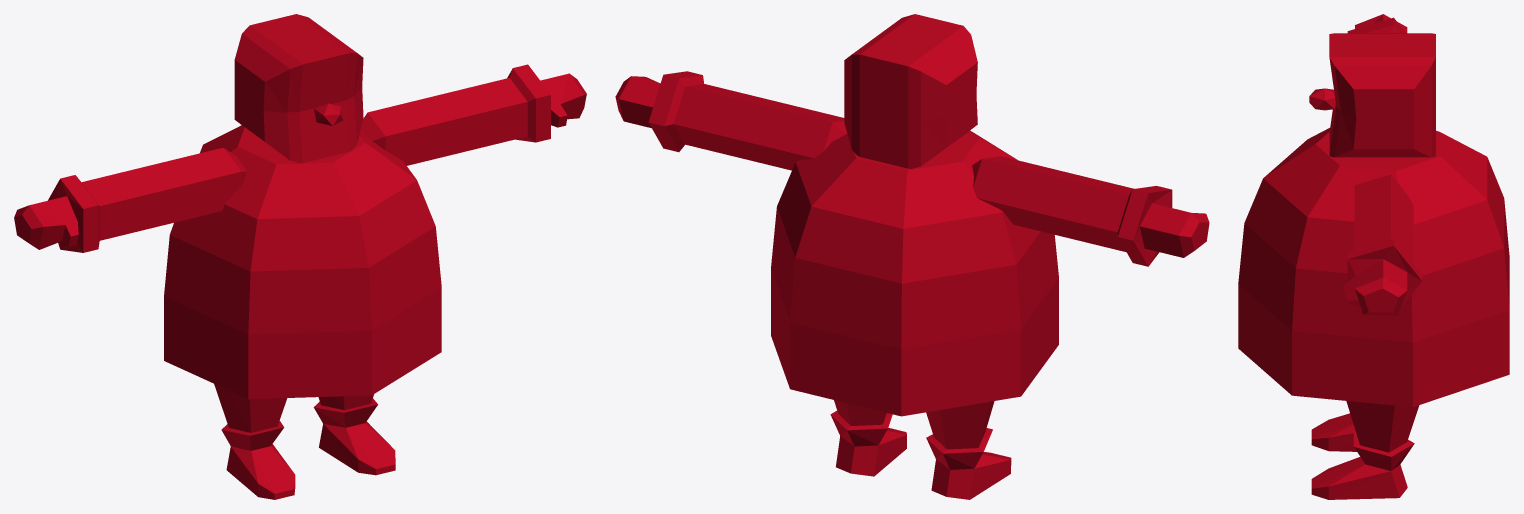
File: santatemp.fbx
3 renders of one model, left to right at view 1: azimuth 30°, elevation 25°; view 2: azimuth 150°, elevation 25°; view 3: azimuth 270°, elevation 25°, orthographic. The views are drawn at different scales.
Parts seen in each view (by area): view 1: Body; view 2: Body; view 3: Body.
Boxes of the visible parts, bbox=[...] form: Body: bbox=[14, 14, 586, 499]; Body: bbox=[615, 14, 1209, 499]; Body: bbox=[1238, 14, 1509, 499].
Bounding box in the file's own units: 5.48 × 3.97 × 2.32.
